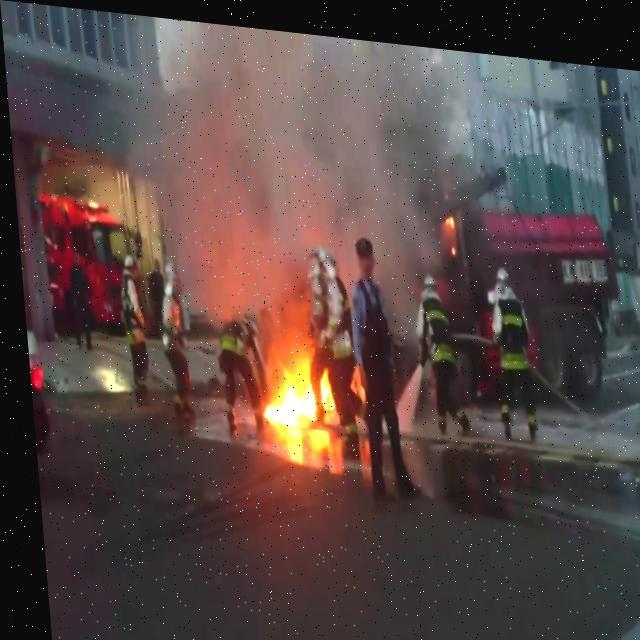Fire: (258, 350, 328, 440), (440, 203, 450, 218)
